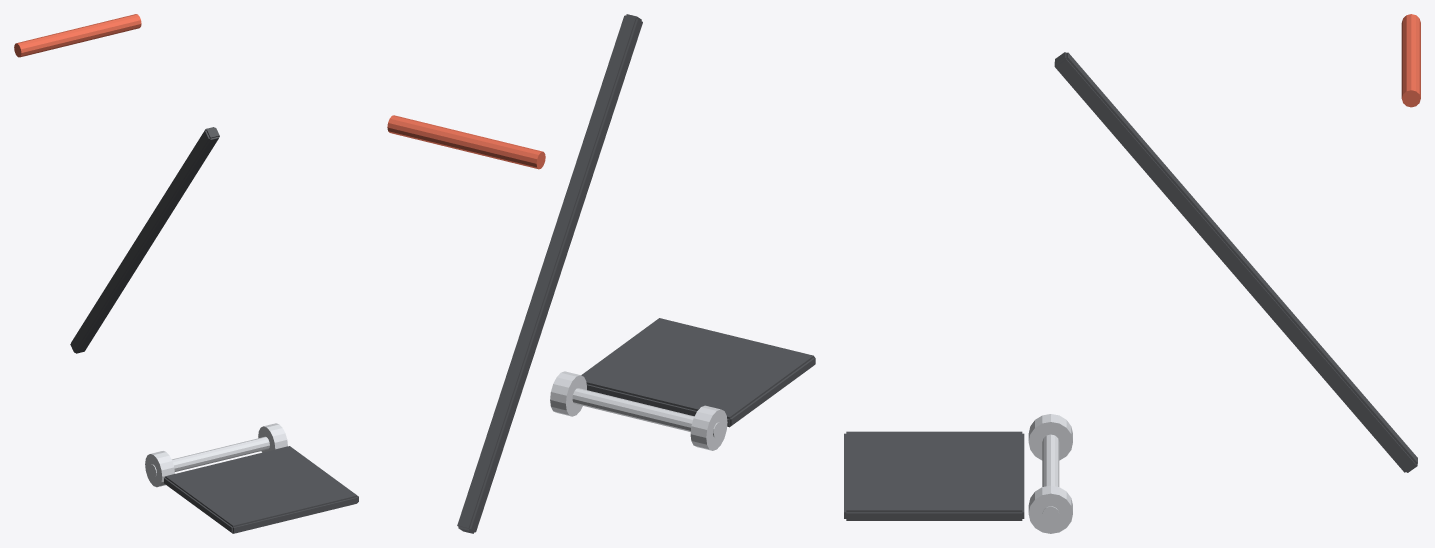
Rendered from Prop_PitJack.fbx.
3 renders of one model, left to right at view 1: azimuth 30°, elevation 25°; view 2: azimuth 150°, elevation 25°; view 3: azimuth 270°, elevation 25°, orthographic. The views are drawn at different scales.
Parts seen in each view (by area): view 1: Prop_PitJack; view 2: Prop_PitJack; view 3: Prop_PitJack.
Part boxes in pixels (x1=…): Prop_PitJack: x1=14, y1=14, x2=358, y2=533; Prop_PitJack: x1=387, y1=14, x2=815, y2=533; Prop_PitJack: x1=844, y1=14, x2=1420, y2=533.
Size of the model in its own units: 0.36 by 0.92 by 1.09.
